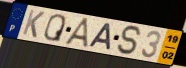3: (141, 30, 162, 59)
A: (63, 17, 91, 50), (87, 22, 112, 51)
K: (21, 8, 46, 39)
Q: (43, 13, 67, 43)
S: (116, 25, 144, 56)
